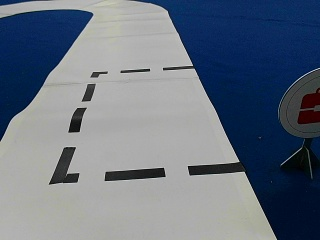company: (279, 70, 319, 135)
